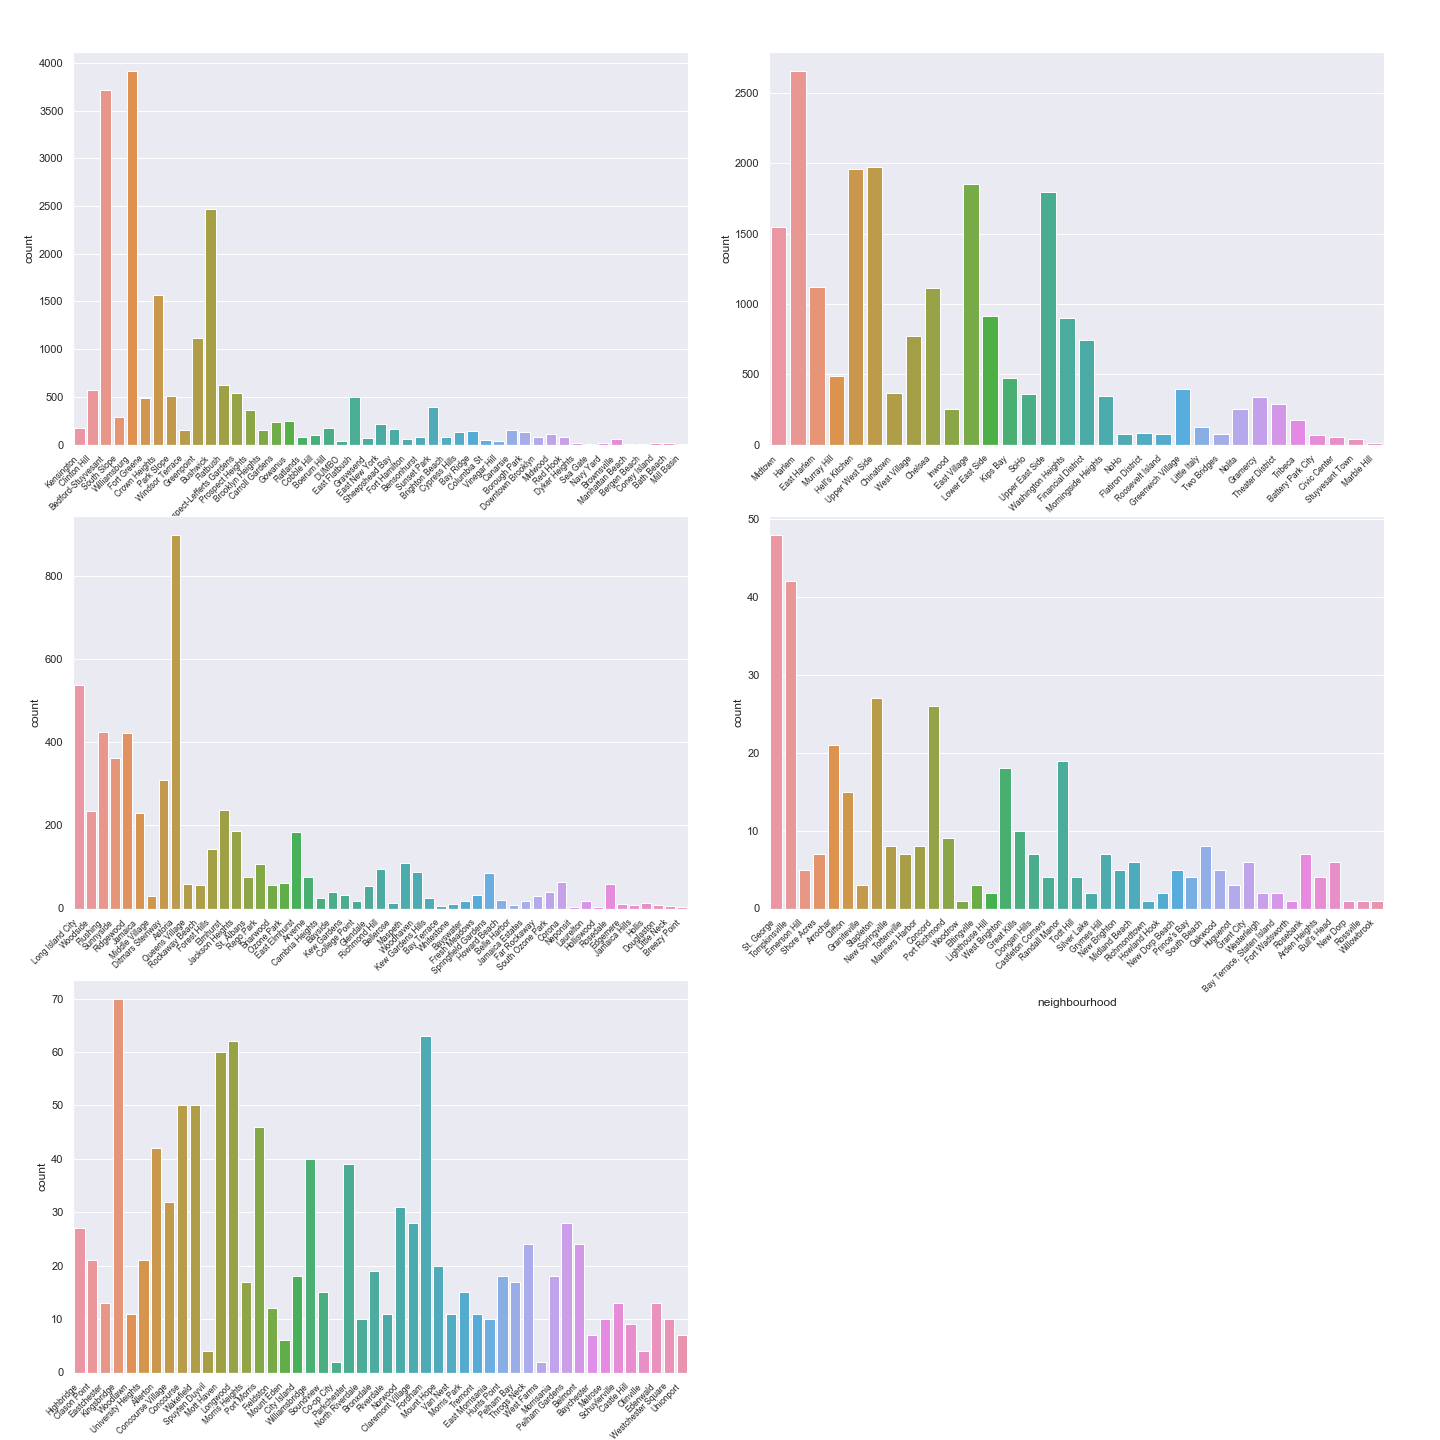

The page's visual inventory and layout, read from the dashboard file:
{"tool":"tableau","page":{"name":"Tableau de bord 2","canvas":[1000,800],"ordinal":1},"visuals":[{"type":"worksheet","title":"Taux résa/Quartier1","mark":"Bar","rows":["Number of Records"],"cols":["neighbourhood_group","neighbourhood"],"box":[8,8,246,392]},{"type":"worksheet","title":"Taux résa quartier5","mark":"Automatic","rows":["Number of Records"],"cols":["neighbourhood_group","neighbourhood"],"box":[254,8,246,392]},{"type":"worksheet","title":"Taux Résa/quartier2","mark":"Automatic","rows":["Number of Records"],"cols":["neighbourhood_group","neighbourhood"],"box":[500,8,492,392]},{"type":"worksheet","title":"Taux résa/quartier 3","mark":"Automatic","rows":["Number of Records"],"cols":["neighbourhood_group","neighbourhood"],"box":[8,400,492,392]},{"type":"worksheet","title":"Taux r&sa/quartier4","mark":"Automatic","rows":["Number of Records"],"cols":["neighbourhood_group","neighbourhood"],"box":[500,400,492,392]}]}

Visuals, with their boxes on the page's 1000x800 design canvas (x1, y1, x2, y2). These are canvas units, not pixel positions in the 1440x1440 screenshot, which may show the page scaled, cropped or inside an application window:
"Taux résa/Quartier1" worksheet (Bar marks): pyautogui.locateOnScreen(8, 8, 254, 400)
"Taux résa quartier5" worksheet: pyautogui.locateOnScreen(254, 8, 500, 400)
"Taux Résa/quartier2" worksheet: pyautogui.locateOnScreen(500, 8, 992, 400)
"Taux résa/quartier 3" worksheet: pyautogui.locateOnScreen(8, 400, 500, 792)
"Taux r&sa/quartier4" worksheet: pyautogui.locateOnScreen(500, 400, 992, 792)
